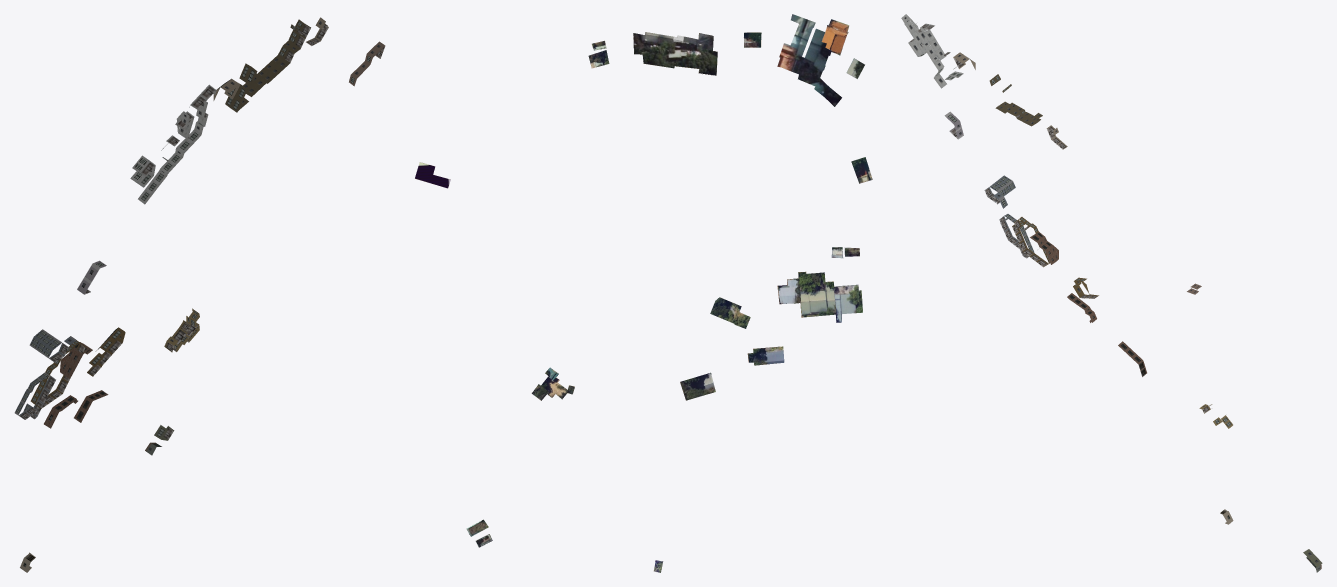
File: tile_LOD8_r4_c5.glb
3 views of the same model, side by side, from view 1: azimuth 30°, elevation 25°; view 2: azimuth 150°, elevation 25°; view 3: azimuth 270°, elevation 25° (orthographic). The views are drawn at different scales.
Size of the model in its own units: 230 by 281 by 215.
64 materials, 64 textured.
